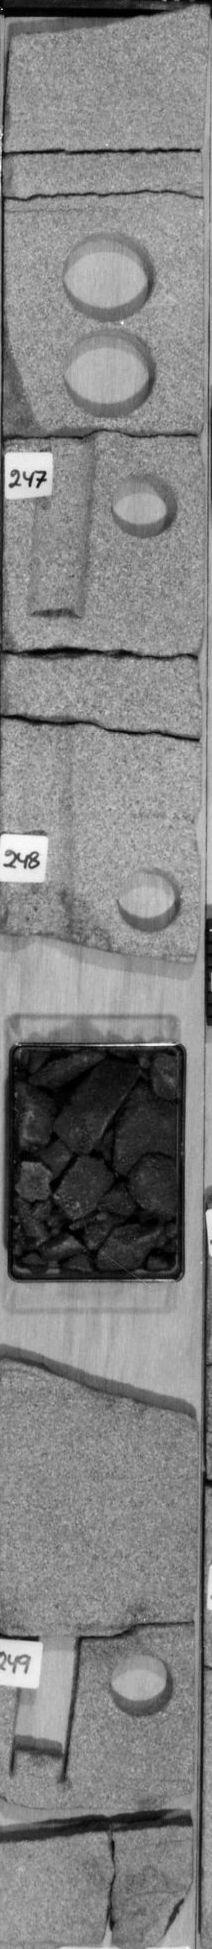hplug: (107, 859, 191, 937), (100, 1643, 183, 1722), (105, 465, 183, 543)
scal: (57, 221, 165, 321), (57, 321, 161, 423)
vplug: (17, 733, 86, 937), (31, 438, 100, 623), (7, 1635, 87, 1785)
